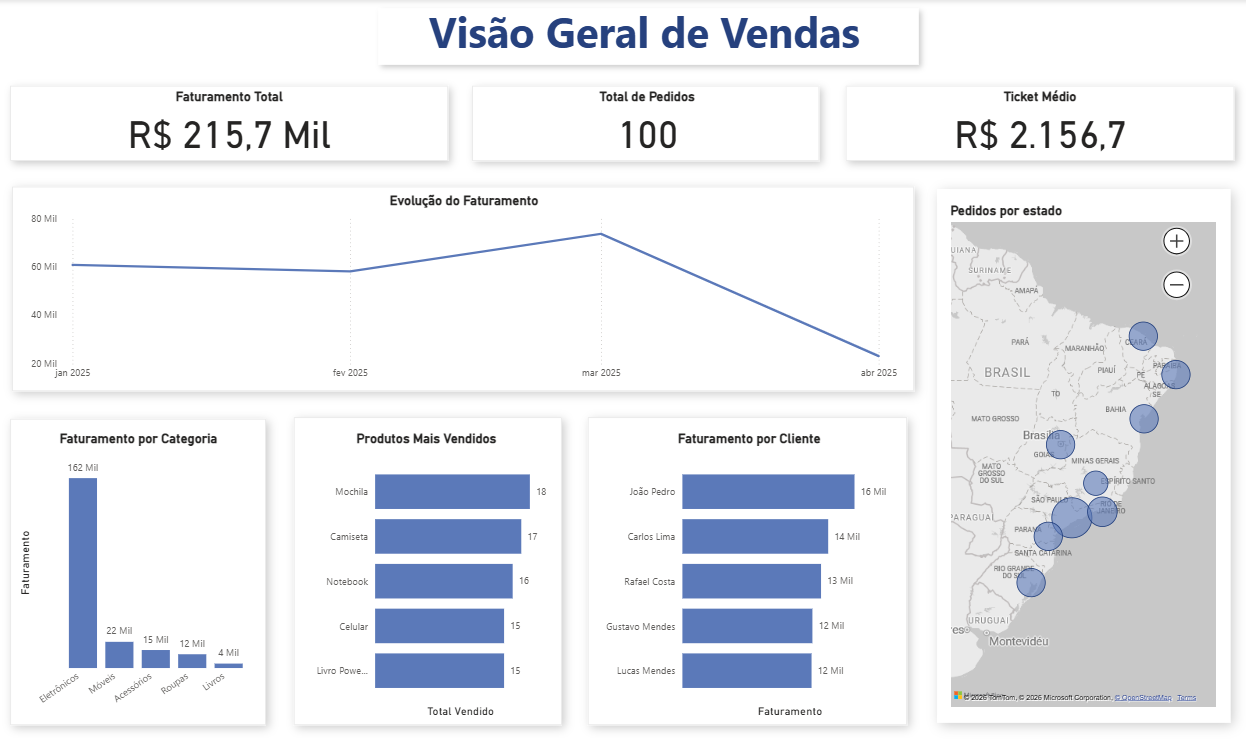

This screenshot's page, from the dashboard's own definition file:
{"tool":"powerbi","page":{"name":"Página 1","canvas":[1600,950],"ordinal":0},"visuals":[{"type":"shape","box":[476.4,0,715.7,96.1],"z":0},{"type":"shape","box":[1183.3,222.3,416.7,724.5],"z":0,"group":"g1"},{"type":"group","id":"g1","title":"Grupo 1","box":[0,96.1,1600.2,852.5],"z":1000},{"type":"shape","box":[2.4,222.6,1189.7,296.8],"z":1000,"group":"g1"},{"type":"textbox","box":[401.7,0,854.6,96.1],"z":2000},{"type":"shape","box":[1.9,96.1,590.7,126.2],"z":2000,"group":"g1"},{"type":"shape","box":[739.6,519.4,442.8,428.2],"z":3000,"group":"g1"},{"type":"shape","box":[362.5,519.4,377.1,428.2],"z":4000,"group":"g1"},{"type":"shape","box":[0,520.5,361.3,426.3],"z":5000,"group":"g1"},{"type":"shape","box":[1072.4,96.1,527.6,126.2],"z":6000,"group":"g1"},{"type":"shape","box":[593.6,96.1,474.4,126.5],"z":7000,"group":"g1"},{"type":"card","title":"Faturamento Total","fields":{"Values":["clientes.Faturamento"]},"box":[22.9,115.2,548.6,86],"z":8000,"group":"g1"},{"type":"card","title":"Total de Pedidos","fields":{"Values":["clientes.Total Pedidos"]},"box":[611.7,115.2,439.7,86],"z":9000,"group":"g1"},{"type":"card","title":"Ticket Médio","fields":{"Values":["clientes.Ticket Medio"]},"box":[1093.4,115.2,485.5,86],"z":10000,"group":"g1"},{"type":"lineChart","title":"Evolução do Faturamento","fields":{"Y":["clientes.Faturamento"],"Category":["pedidos.data_pedido.Variation.Hierarquia de datas.Ano","pedidos.data_pedido.Variation.Hierarquia de datas.Mês"]},"box":[38.9,246.9,1119.1,248.2],"z":11000,"group":"g1"},{"type":"columnChart","title":"Faturamento por Categoria","fields":{"Category":["produtos.categoria"],"Y":["clientes.Faturamento"]},"box":[22.3,553.2,316.2,371.2],"z":12000,"group":"g1"},{"type":"barChart","title":"Produtos Mais Vendidos","fields":{"Category":["produtos.nome_produto"],"Y":["clientes.Total Vendido"]},"box":[391.8,553.2,316.2,371.2],"z":13000,"group":"g1"},{"type":"barChart","title":"Faturamento por Cliente","fields":{"Category":["clientes.nome_cliente"],"Y":["clientes.Faturamento"]},"box":[768.1,553.2,390.1,371.2],"z":14000,"group":"g1"},{"type":"actionButton","box":[0,96.1,100,40],"z":15000,"group":"g1"},{"type":"map","title":"Pedidos por estado","fields":{"Category":["clientes.estado"],"Size":["clientes.Total Pedidos"]},"box":[1215.8,260.5,349.8,649.9],"z":16000,"group":"g1"}]}

Visuals, with their boxes in screenshot pixels (x1, y1, x2, y2), scaled from the page's 1600x950 canvas onto the 1246x739 screenshot:
shape: [371, 0, 928, 75]
shape: [921, 173, 1245, 737]
"Grupo 1" group: [0, 75, 1245, 738]
shape: [2, 173, 928, 404]
textbox: [313, 0, 978, 75]
shape: [1, 75, 461, 173]
shape: [576, 404, 921, 737]
shape: [282, 404, 576, 737]
shape: [0, 405, 281, 737]
shape: [835, 75, 1245, 173]
shape: [462, 75, 832, 173]
"Faturamento Total" card: [18, 90, 445, 157]
"Total de Pedidos" card: [476, 90, 819, 157]
"Ticket Médio" card: [851, 90, 1230, 157]
"Evolução do Faturamento" lineChart: [30, 192, 902, 385]
"Faturamento por Categoria" columnChart: [17, 430, 264, 719]
"Produtos Mais Vendidos" barChart: [305, 430, 551, 719]
"Faturamento por Cliente" barChart: [598, 430, 902, 719]
actionButton: [0, 75, 78, 106]
"Pedidos por estado" map: [947, 203, 1219, 708]
